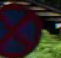No Stopping: (0, 2, 44, 57)
